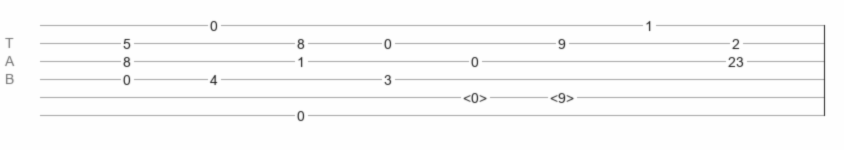0: (123, 72, 131, 82), (210, 18, 218, 28), (297, 108, 305, 118), (384, 36, 392, 46), (471, 54, 479, 64)
1: (297, 54, 305, 64), (645, 18, 653, 28)
2: (732, 36, 740, 46)
23: (728, 54, 744, 64)
3: (384, 72, 392, 82)
4: (210, 72, 218, 82)
5: (123, 36, 131, 46)
8: (123, 54, 131, 64), (297, 36, 305, 46)
9: (558, 36, 566, 46)
harmonic: (463, 90, 487, 100), (550, 90, 574, 100)
